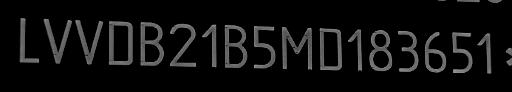letter: (40, 16, 74, 64), (280, 23, 314, 70), (72, 17, 104, 66), (166, 21, 198, 67), (105, 19, 135, 66), (138, 20, 166, 69), (221, 22, 249, 69), (250, 23, 278, 70), (16, 15, 42, 64), (317, 25, 345, 70), (366, 27, 394, 72), (448, 29, 476, 74), (422, 28, 448, 73), (394, 28, 420, 72), (474, 31, 496, 75), (200, 22, 220, 68), (346, 26, 364, 70)
